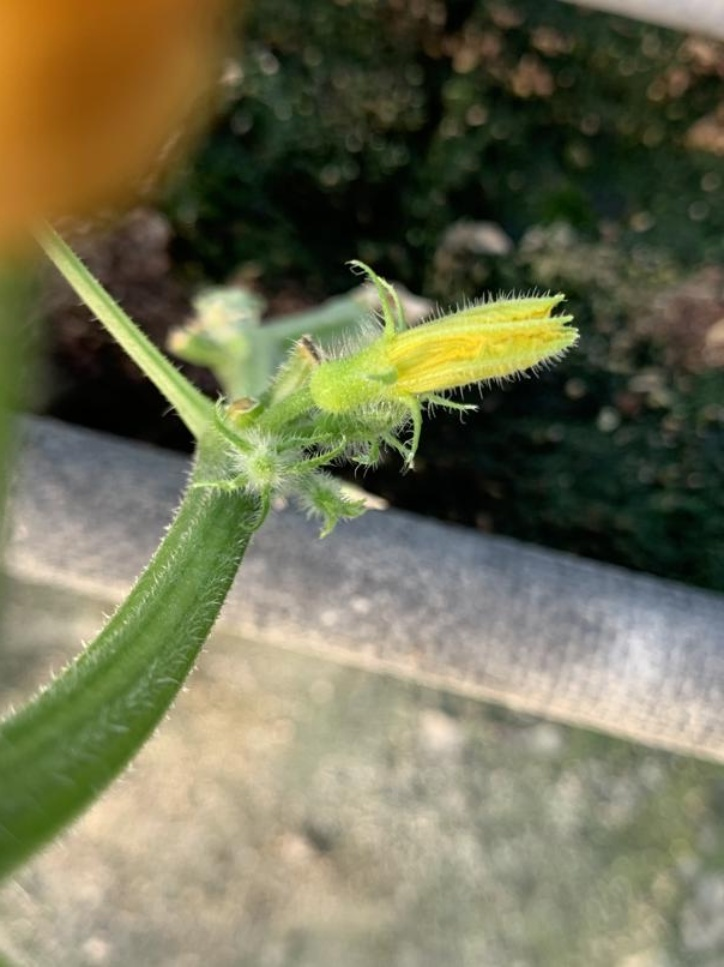bud: (277, 268, 575, 435)
